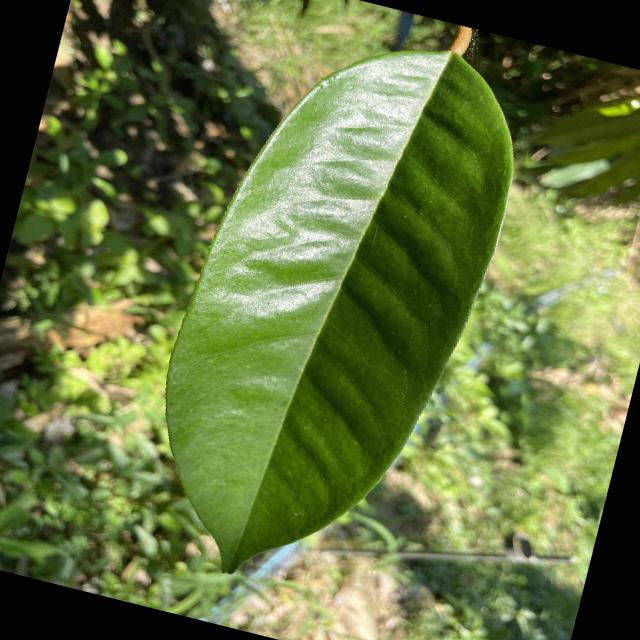No Disease: (113, 0, 548, 623)
